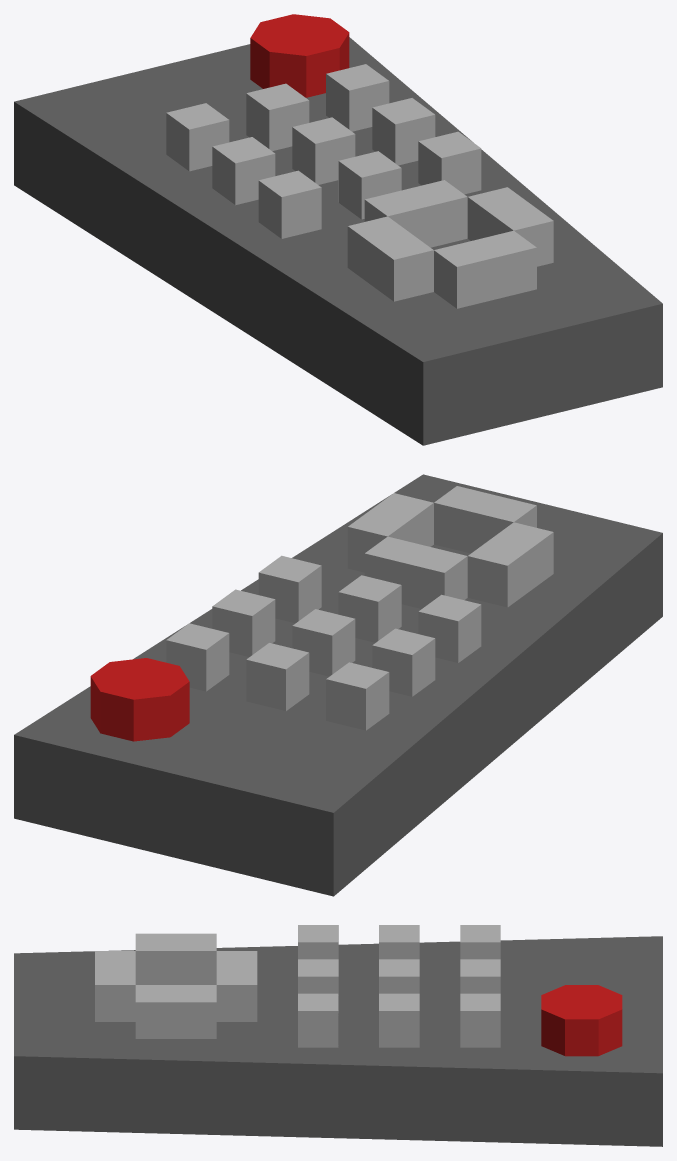
The model's file is remote.fbx.
3 renders of one model, top to bottom at view 1: azimuth 30°, elevation 25°; view 2: azimuth 150°, elevation 25°; view 3: azimuth 270°, elevation 25°, orthographic. The views are drawn at different scales.
Parts seen in each view (by area): view 1: cuboid, cylinder, cube_12, cube_10, cube_9, cube_11, cube_6, cube_2, cube_3, cube_1, cube, cube_4 (+3 smaller); view 2: cuboid, cylinder, cube_10, cube_9, cube_12, cube_11, cube_2, cube, cube_6, cube_3, cube_8, cube_7 (+3 smaller); view 3: cuboid, cylinder, cube_11, cube_10, cube_9, cube_12, cube_1, cube_5, cube_8, cube_7, cube, cube_2 (+3 smaller).
Part boxes in pixels (x1,y1,x2,y2): cuboid: (14, 37, 662, 445); cylinder: (250, 14, 349, 97); cube_12: (434, 230, 536, 308); cube_10: (347, 216, 433, 301); cube_9: (364, 180, 467, 247); cube_11: (467, 187, 553, 266); cube_6: (258, 170, 321, 238); cube_2: (166, 103, 229, 171); cube_3: (212, 137, 275, 205); cube_1: (326, 64, 389, 131); cube: (246, 83, 309, 151); cube_4: (292, 117, 355, 184); cuboid: (14, 474, 662, 896); cylinder: (90, 658, 189, 741); cube_10: (467, 522, 553, 607); cube_9: (364, 536, 467, 608); cube_12: (434, 486, 536, 553); cube_11: (347, 493, 433, 572); cube_2: (326, 662, 389, 730); cube: (246, 643, 309, 710); cube_6: (418, 594, 481, 662); cube_3: (372, 628, 435, 696); cube_8: (258, 555, 321, 623); cube_7: (338, 575, 401, 642); cuboid: (14, 936, 662, 1146); cylinder: (541, 985, 622, 1056); cube_11: (135, 985, 216, 1038); cube_10: (135, 933, 216, 984); cube_9: (216, 951, 257, 1021); cube_12: (95, 951, 135, 1021); cube_1: (460, 993, 500, 1047); cube_5: (379, 993, 419, 1047); cube_8: (298, 993, 338, 1047); cube_7: (298, 959, 338, 1012); cube: (460, 959, 500, 993); cube_2: (460, 925, 500, 959).
Size of the model in its own units: 50 by 18.75 by 100.
1 material, 1 textured.
